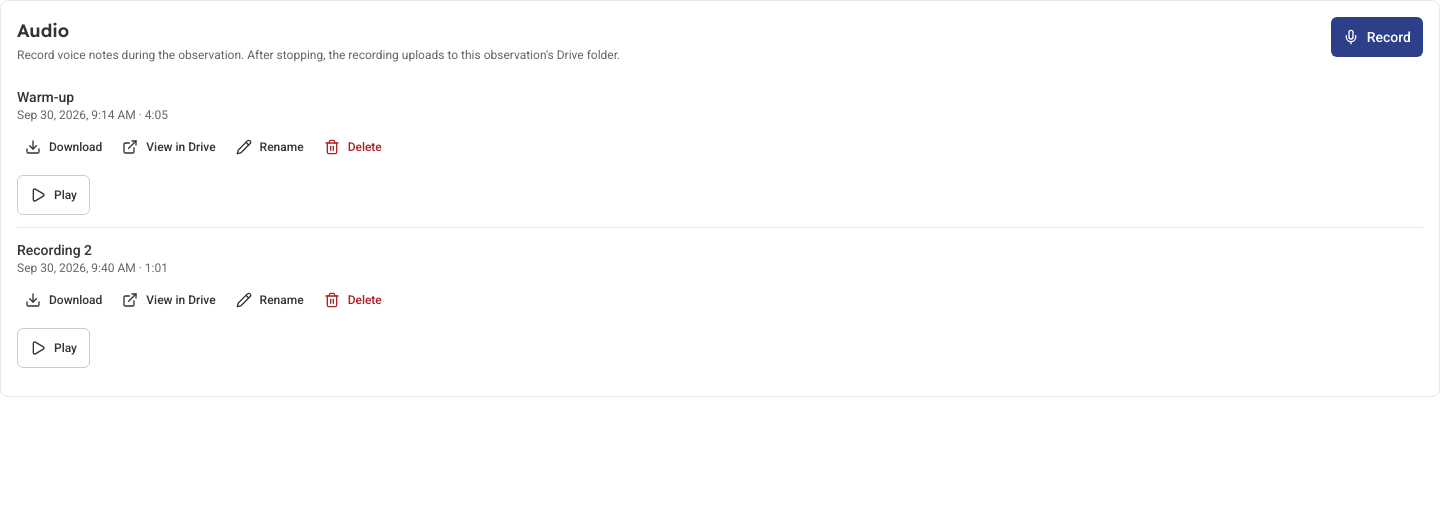
Test: <AudioRecorder> recording › warns before leaving the page while a recording is not uploaded
Click the button "Record".
click(1377, 37)  # box [1331,17,1423,57]
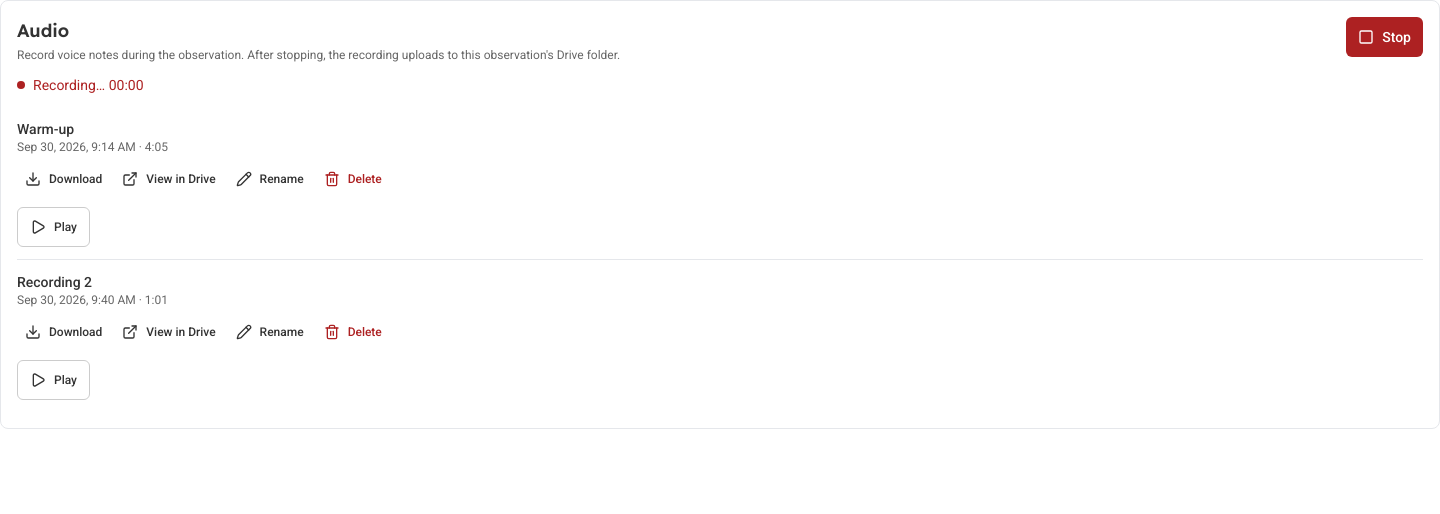
Click the button "Stop".
click(1385, 37)  # box [1346,17,1423,57]
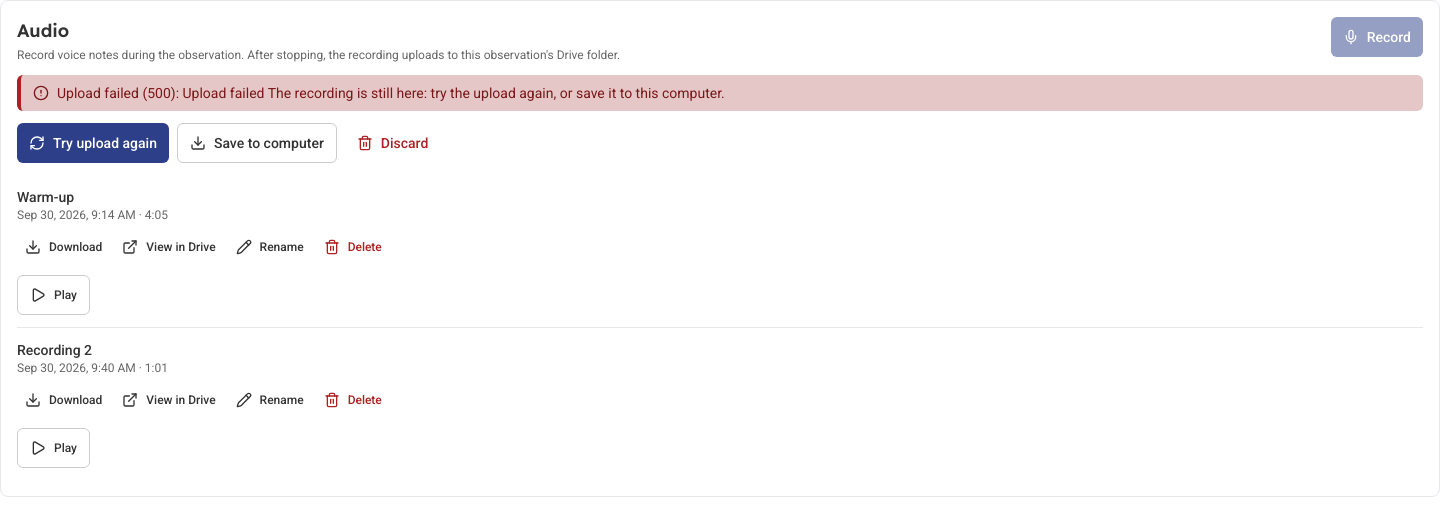
Check: the text "The recording is still here" is shown, box [57,85,725,101]
